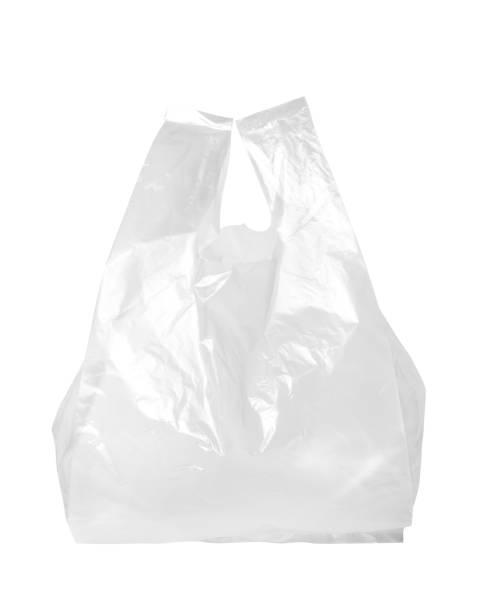LDPE: (0, 23, 483, 612)
